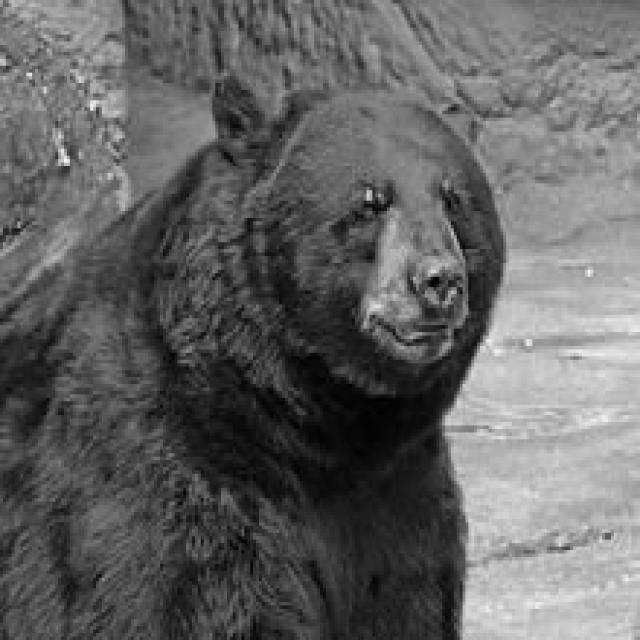Bear: (0, 62, 507, 640)
